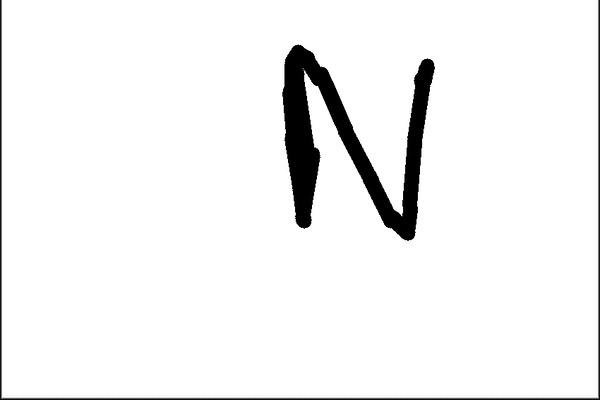N: (278, 38, 439, 245)
